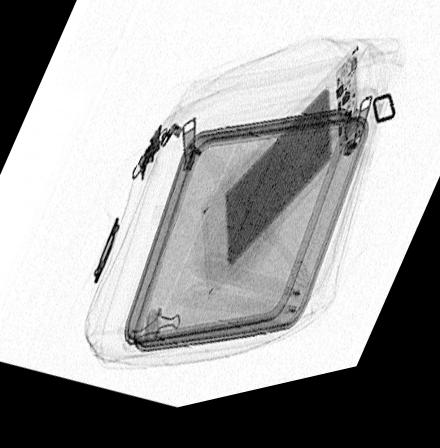Powerbank: (201, 56, 367, 307)
